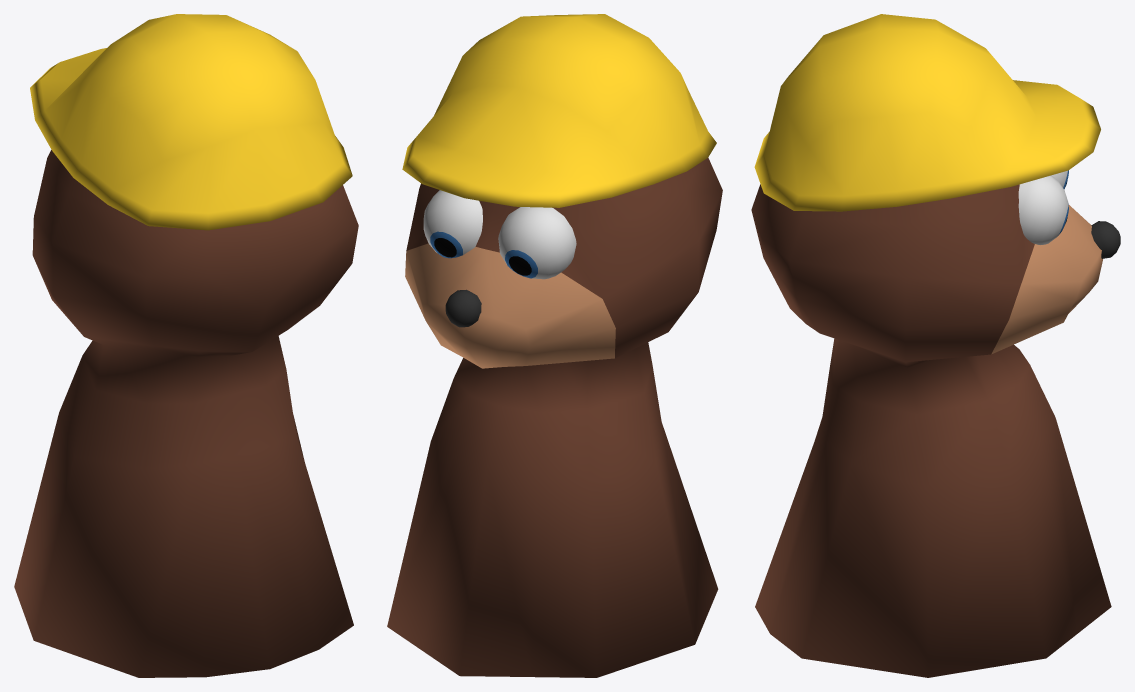
File: mole.glb
The picture shows the model from 3 angles, left to right: view 1: azimuth 30°, elevation 25°; view 2: azimuth 150°, elevation 25°; view 3: azimuth 270°, elevation 25°; orthographic projection. The views are drawn at different scales.
Parts seen in each view (by area): view 1: mole; view 2: mole; view 3: mole.
Boxes of the visible parts, x1,y1,x2,y2 form: mole: [14, 14, 358, 677]; mole: [387, 14, 722, 677]; mole: [751, 14, 1120, 677].
Bounding box in the file's own units: 0.8429 × 1.6 × 0.9258.
1 material, 1 textured.
